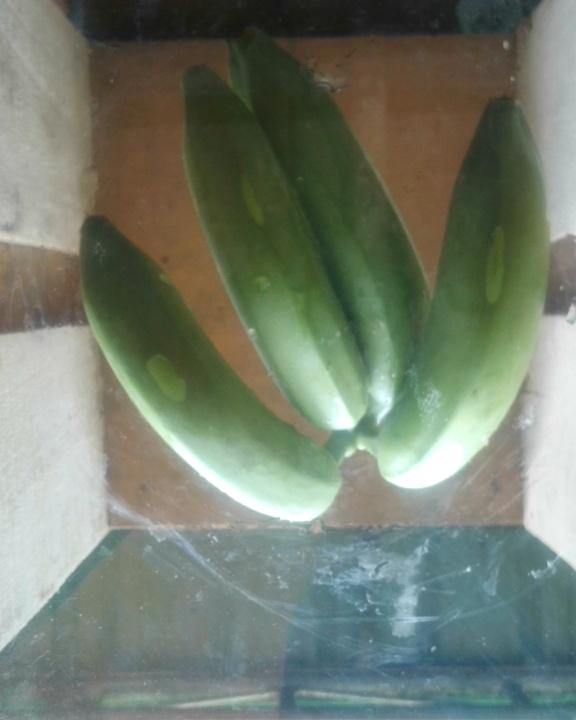SPOT: (67, 22, 571, 535)
